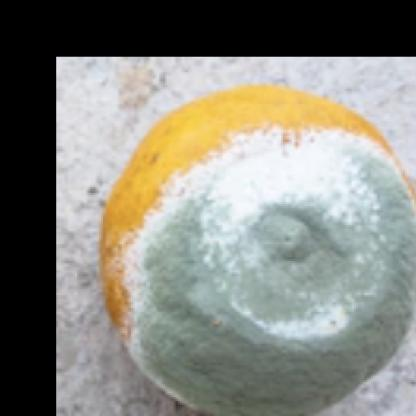rotten: (101, 83, 416, 416)
